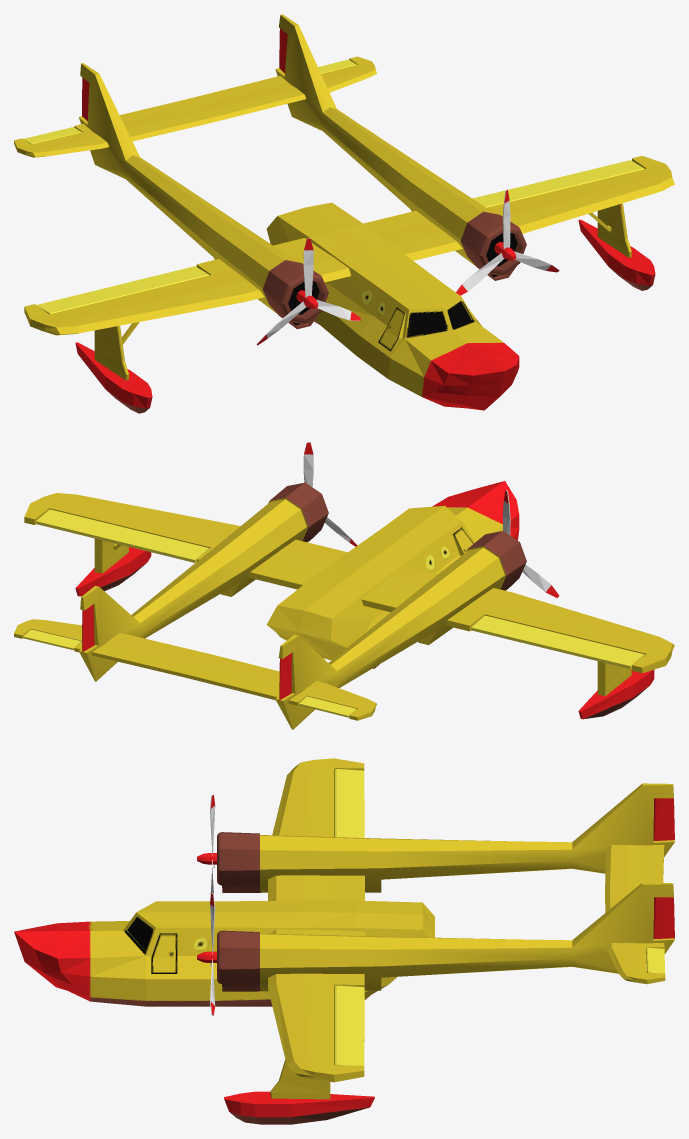
3 renders of one model, top to bottom at view 1: azimuth 30°, elevation 25°; view 2: azimuth 150°, elevation 25°; view 3: azimuth 270°, elevation 25°, orthographic.
Visible parts, largest first — view 1: Float_plane; view 2: Float_plane; view 3: Float_plane.
Part boxes in pixels (x1,y1,x2,y2): Float_plane: (14,14,674,413); Float_plane: (14,442,674,729); Float_plane: (14,758,674,1124).
Size of the model in its own units: 3.37 by 2.98 by 0.8301.
1 material, 1 textured.
